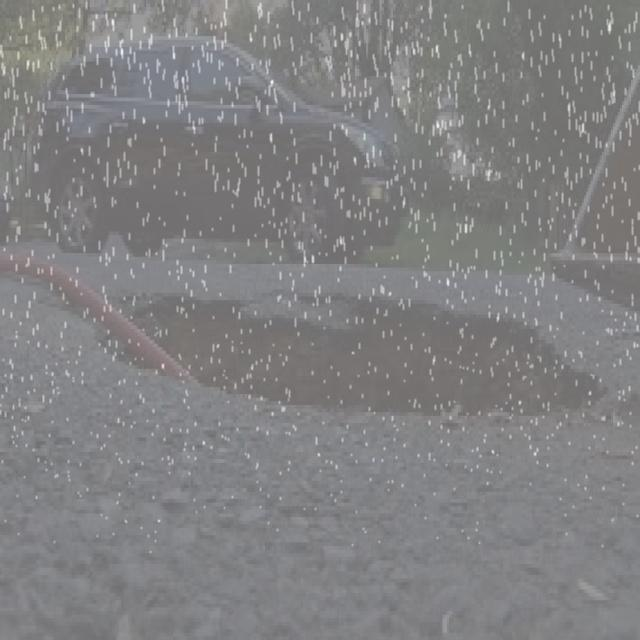Pothole: (45, 247, 628, 451)
